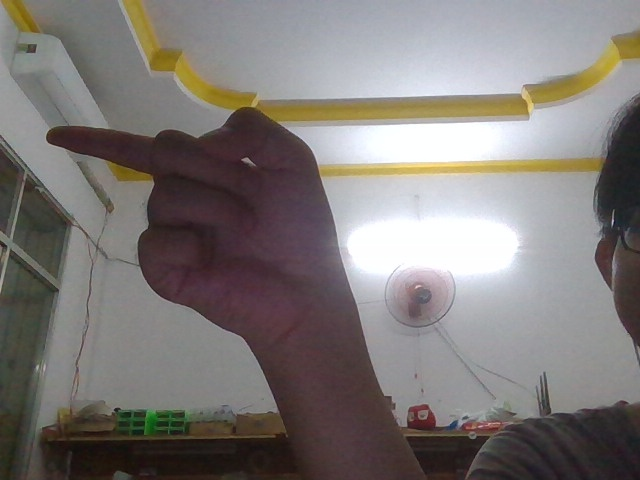turn_right: (30, 87, 368, 355)
